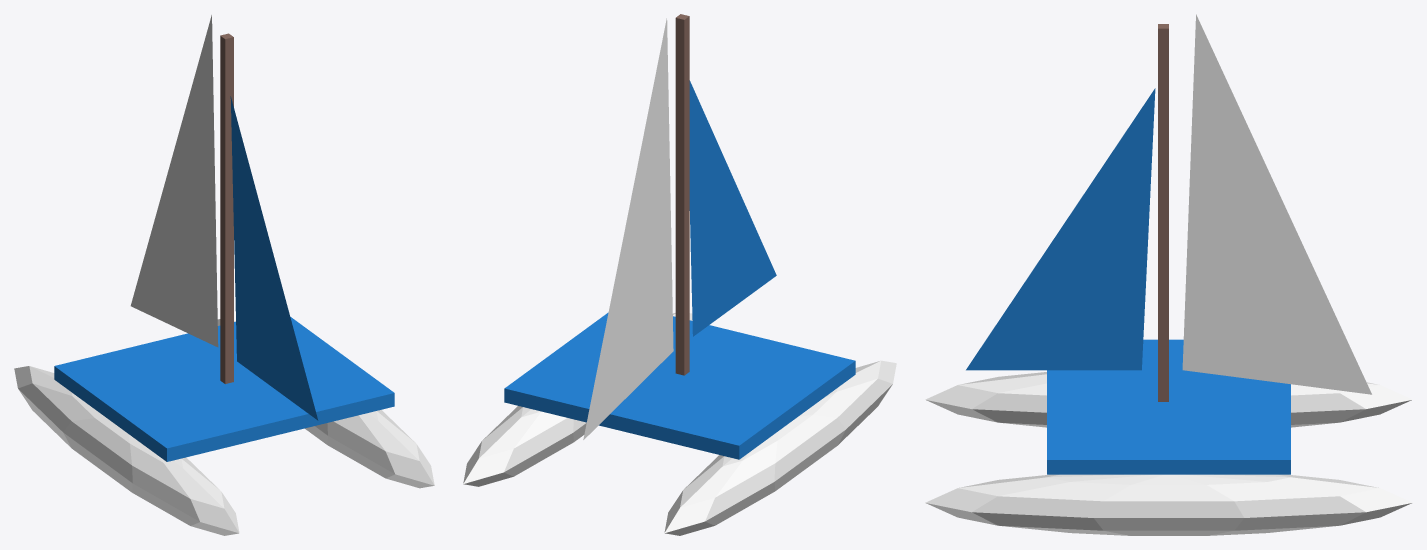
File: katamaran.glb
3 renders of one model, left to right at view 1: azimuth 30°, elevation 25°; view 2: azimuth 150°, elevation 25°; view 3: azimuth 270°, elevation 25°, orthographic. The views are drawn at different scales.
Visible parts, largest first — view 1: katamaran; view 2: katamaran; view 3: katamaran.
Part boxes in pixels (x1,y1,x2,y2): katamaran: (14, 15, 434, 535); katamaran: (463, 14, 896, 535); katamaran: (925, 14, 1412, 535).
Size of the model in its own units: 1.17 by 1.9 by 1.8.
